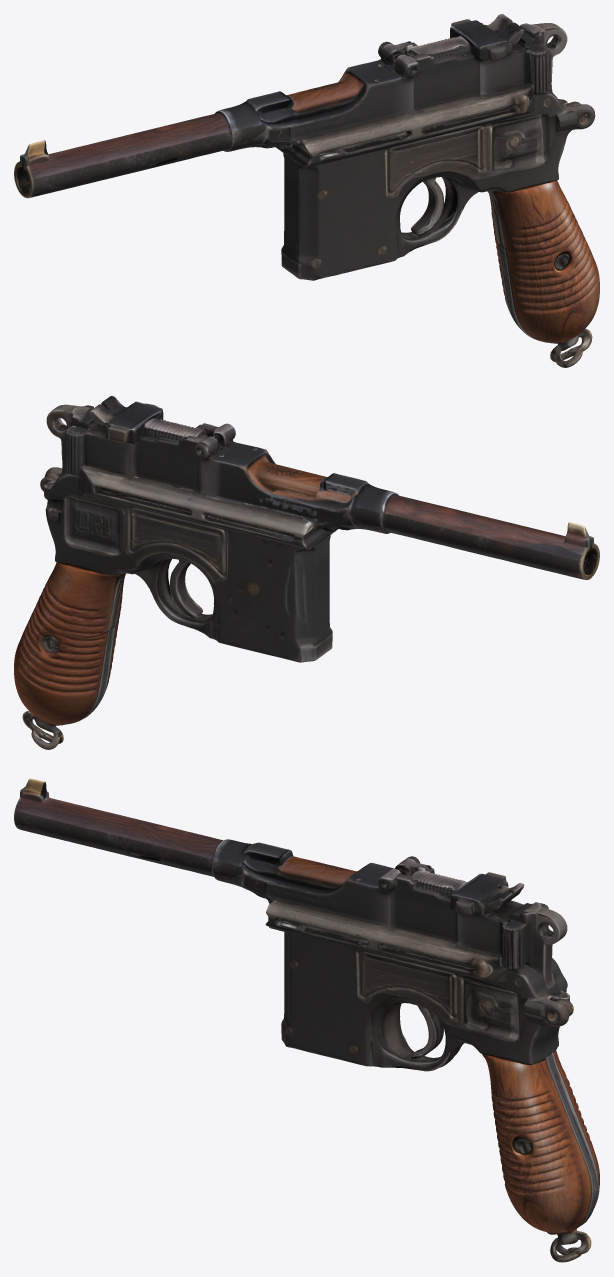
The model's file is Pistol_Mauser_C96_1030144829_texture.fbx.
3 renders of one model, top to bottom at view 1: azimuth 30°, elevation 25°; view 2: azimuth 150°, elevation 25°; view 3: azimuth 330°, elevation 25°, orthographic.
Visible parts, largest first — view 1: input; view 2: input; view 3: input.
Part boxes in pixels (box(x1,y1,x2,y2)): input: box(14, 14, 599, 367); input: box(14, 396, 599, 749); input: box(14, 778, 599, 1262).
Size of the model in its own units: 190 by 113 by 26.31.
1 material, 1 textured.
